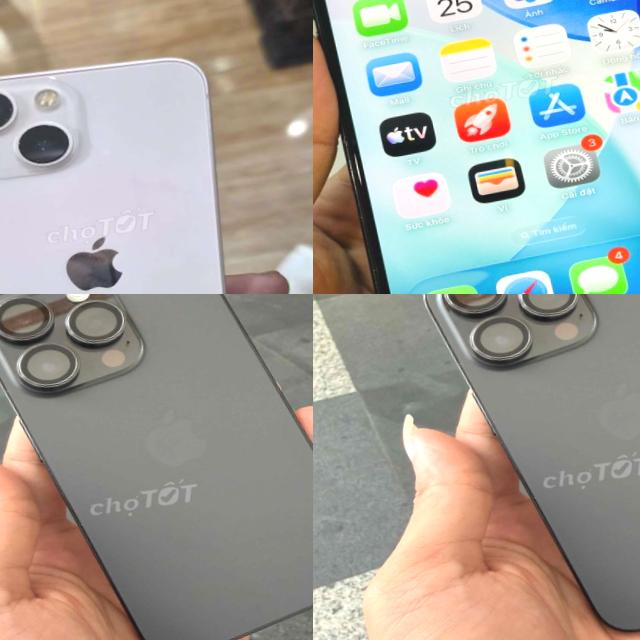gen_12_13: (0, 42, 254, 294)
gen_14: (0, 294, 313, 640), (415, 294, 640, 640)
gen_15: (313, 0, 640, 294)
